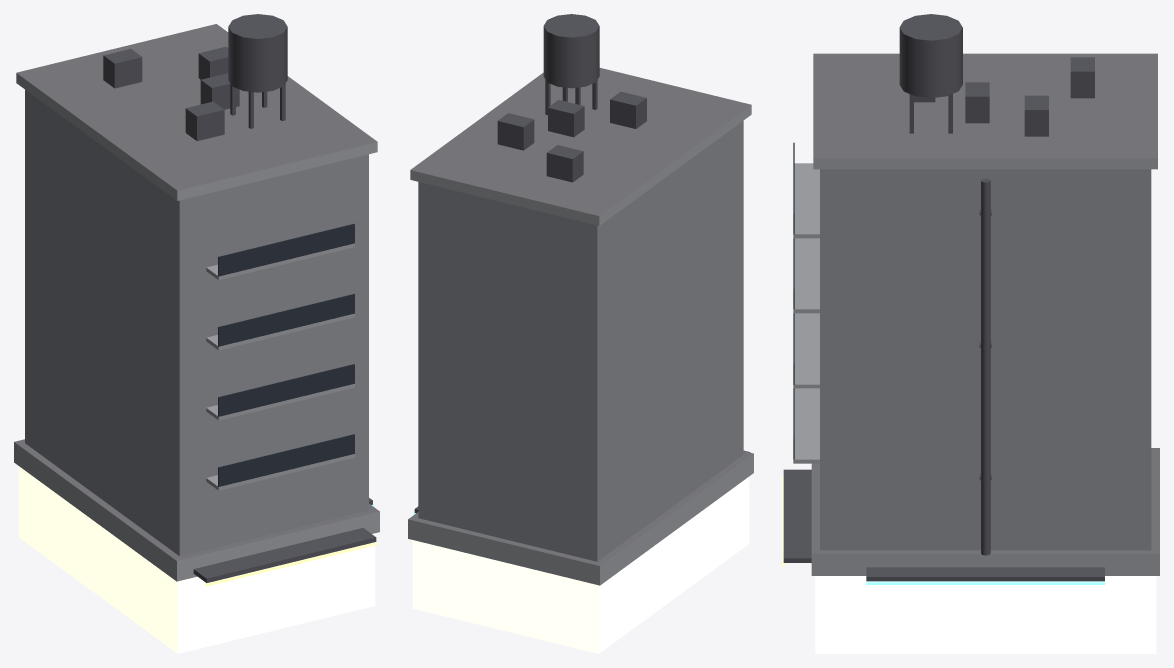
The model's file is r1014_long.glb.
3 views of the same model, side by side, from view 1: azimuth 30°, elevation 25°; view 2: azimuth 150°, elevation 25°; view 3: azimuth 270°, elevation 25° (orthographic). The views are drawn at different scales.
Visible parts, largest first — view 1: r1014_long; view 2: r1014_long; view 3: r1014_long.
Part boxes in pixels (bbox=[...]): r1014_long: bbox=[14, 14, 379, 653]; r1014_long: bbox=[408, 14, 753, 653]; r1014_long: bbox=[782, 14, 1159, 653].
Size of the model in its own units: 11.31 by 26.9 by 15.51.
